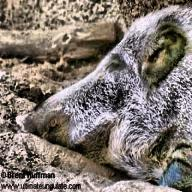boar: (24, 6, 192, 180)
